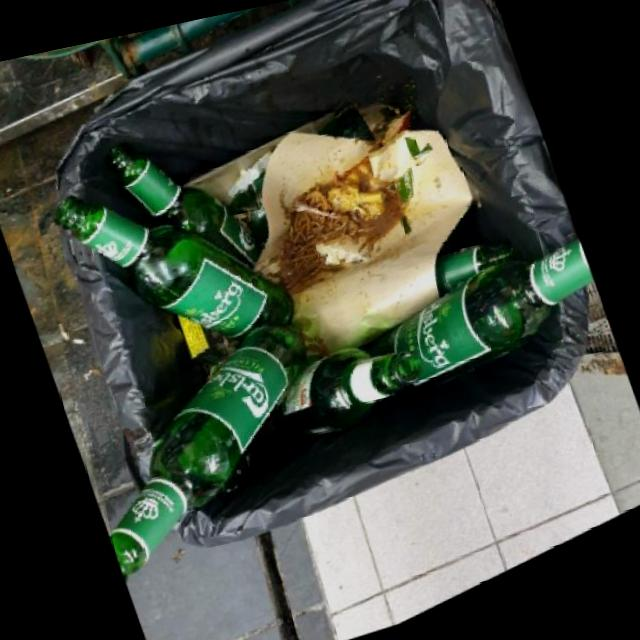carton: (252, 139, 472, 364)
chai_thuy_tinh: (108, 331, 306, 584), (358, 250, 595, 402), (51, 199, 293, 344), (104, 151, 262, 275), (271, 355, 421, 441), (435, 254, 513, 307)
thuc_an_thua: (281, 170, 386, 288)
